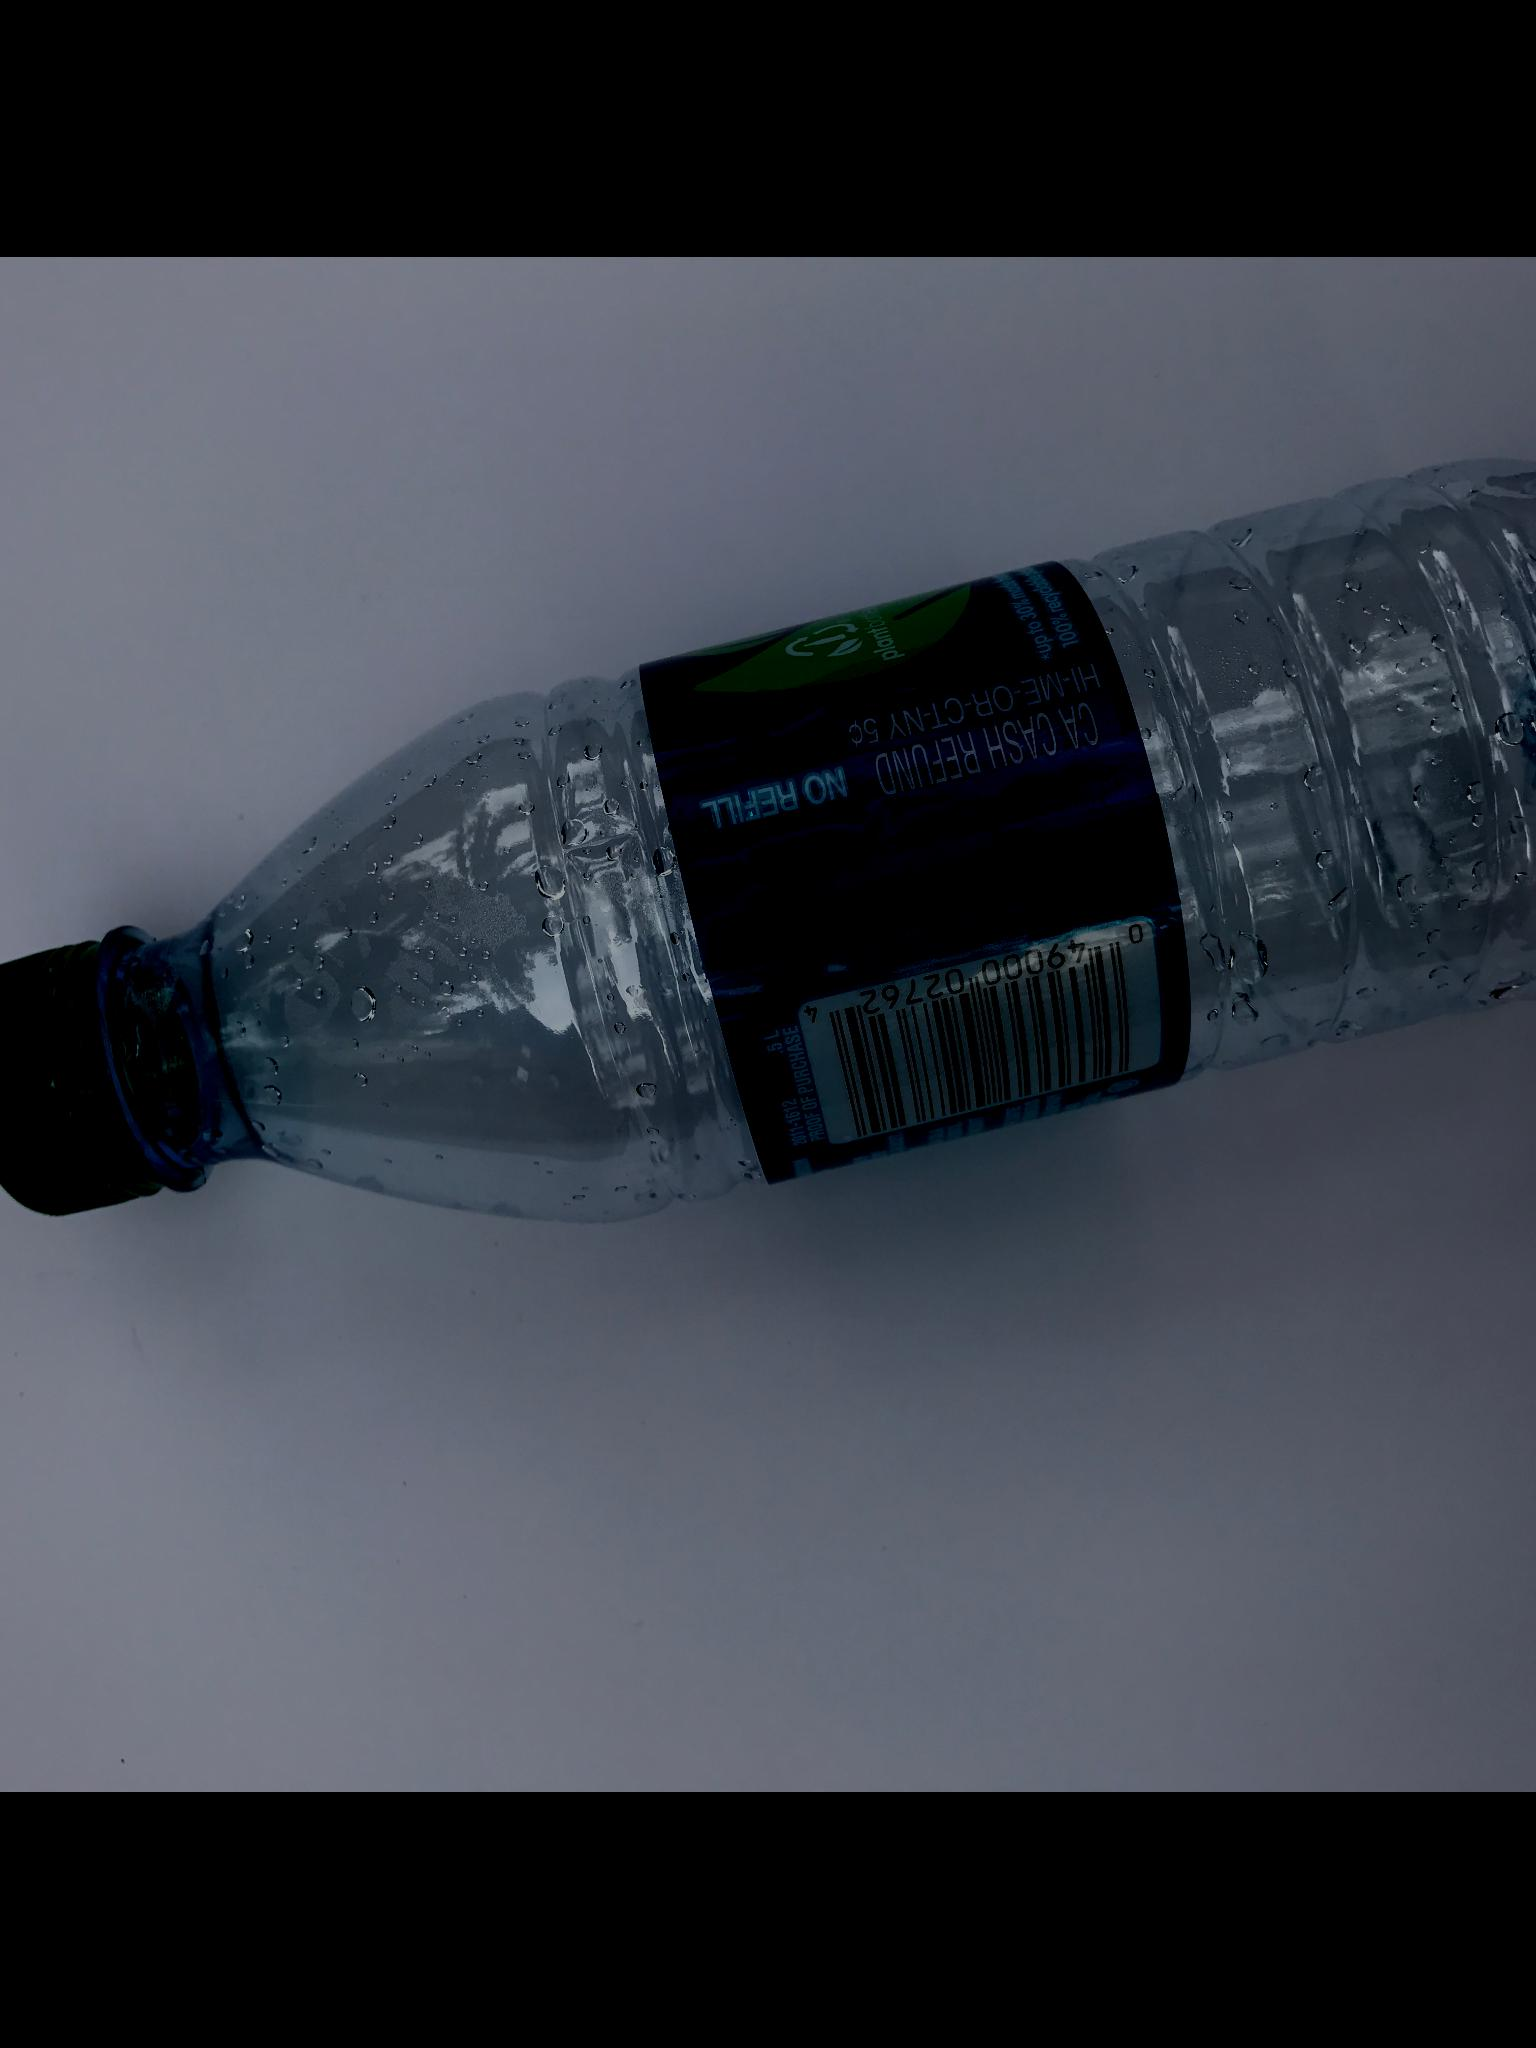Plastic: (0, 423, 1534, 1248)
